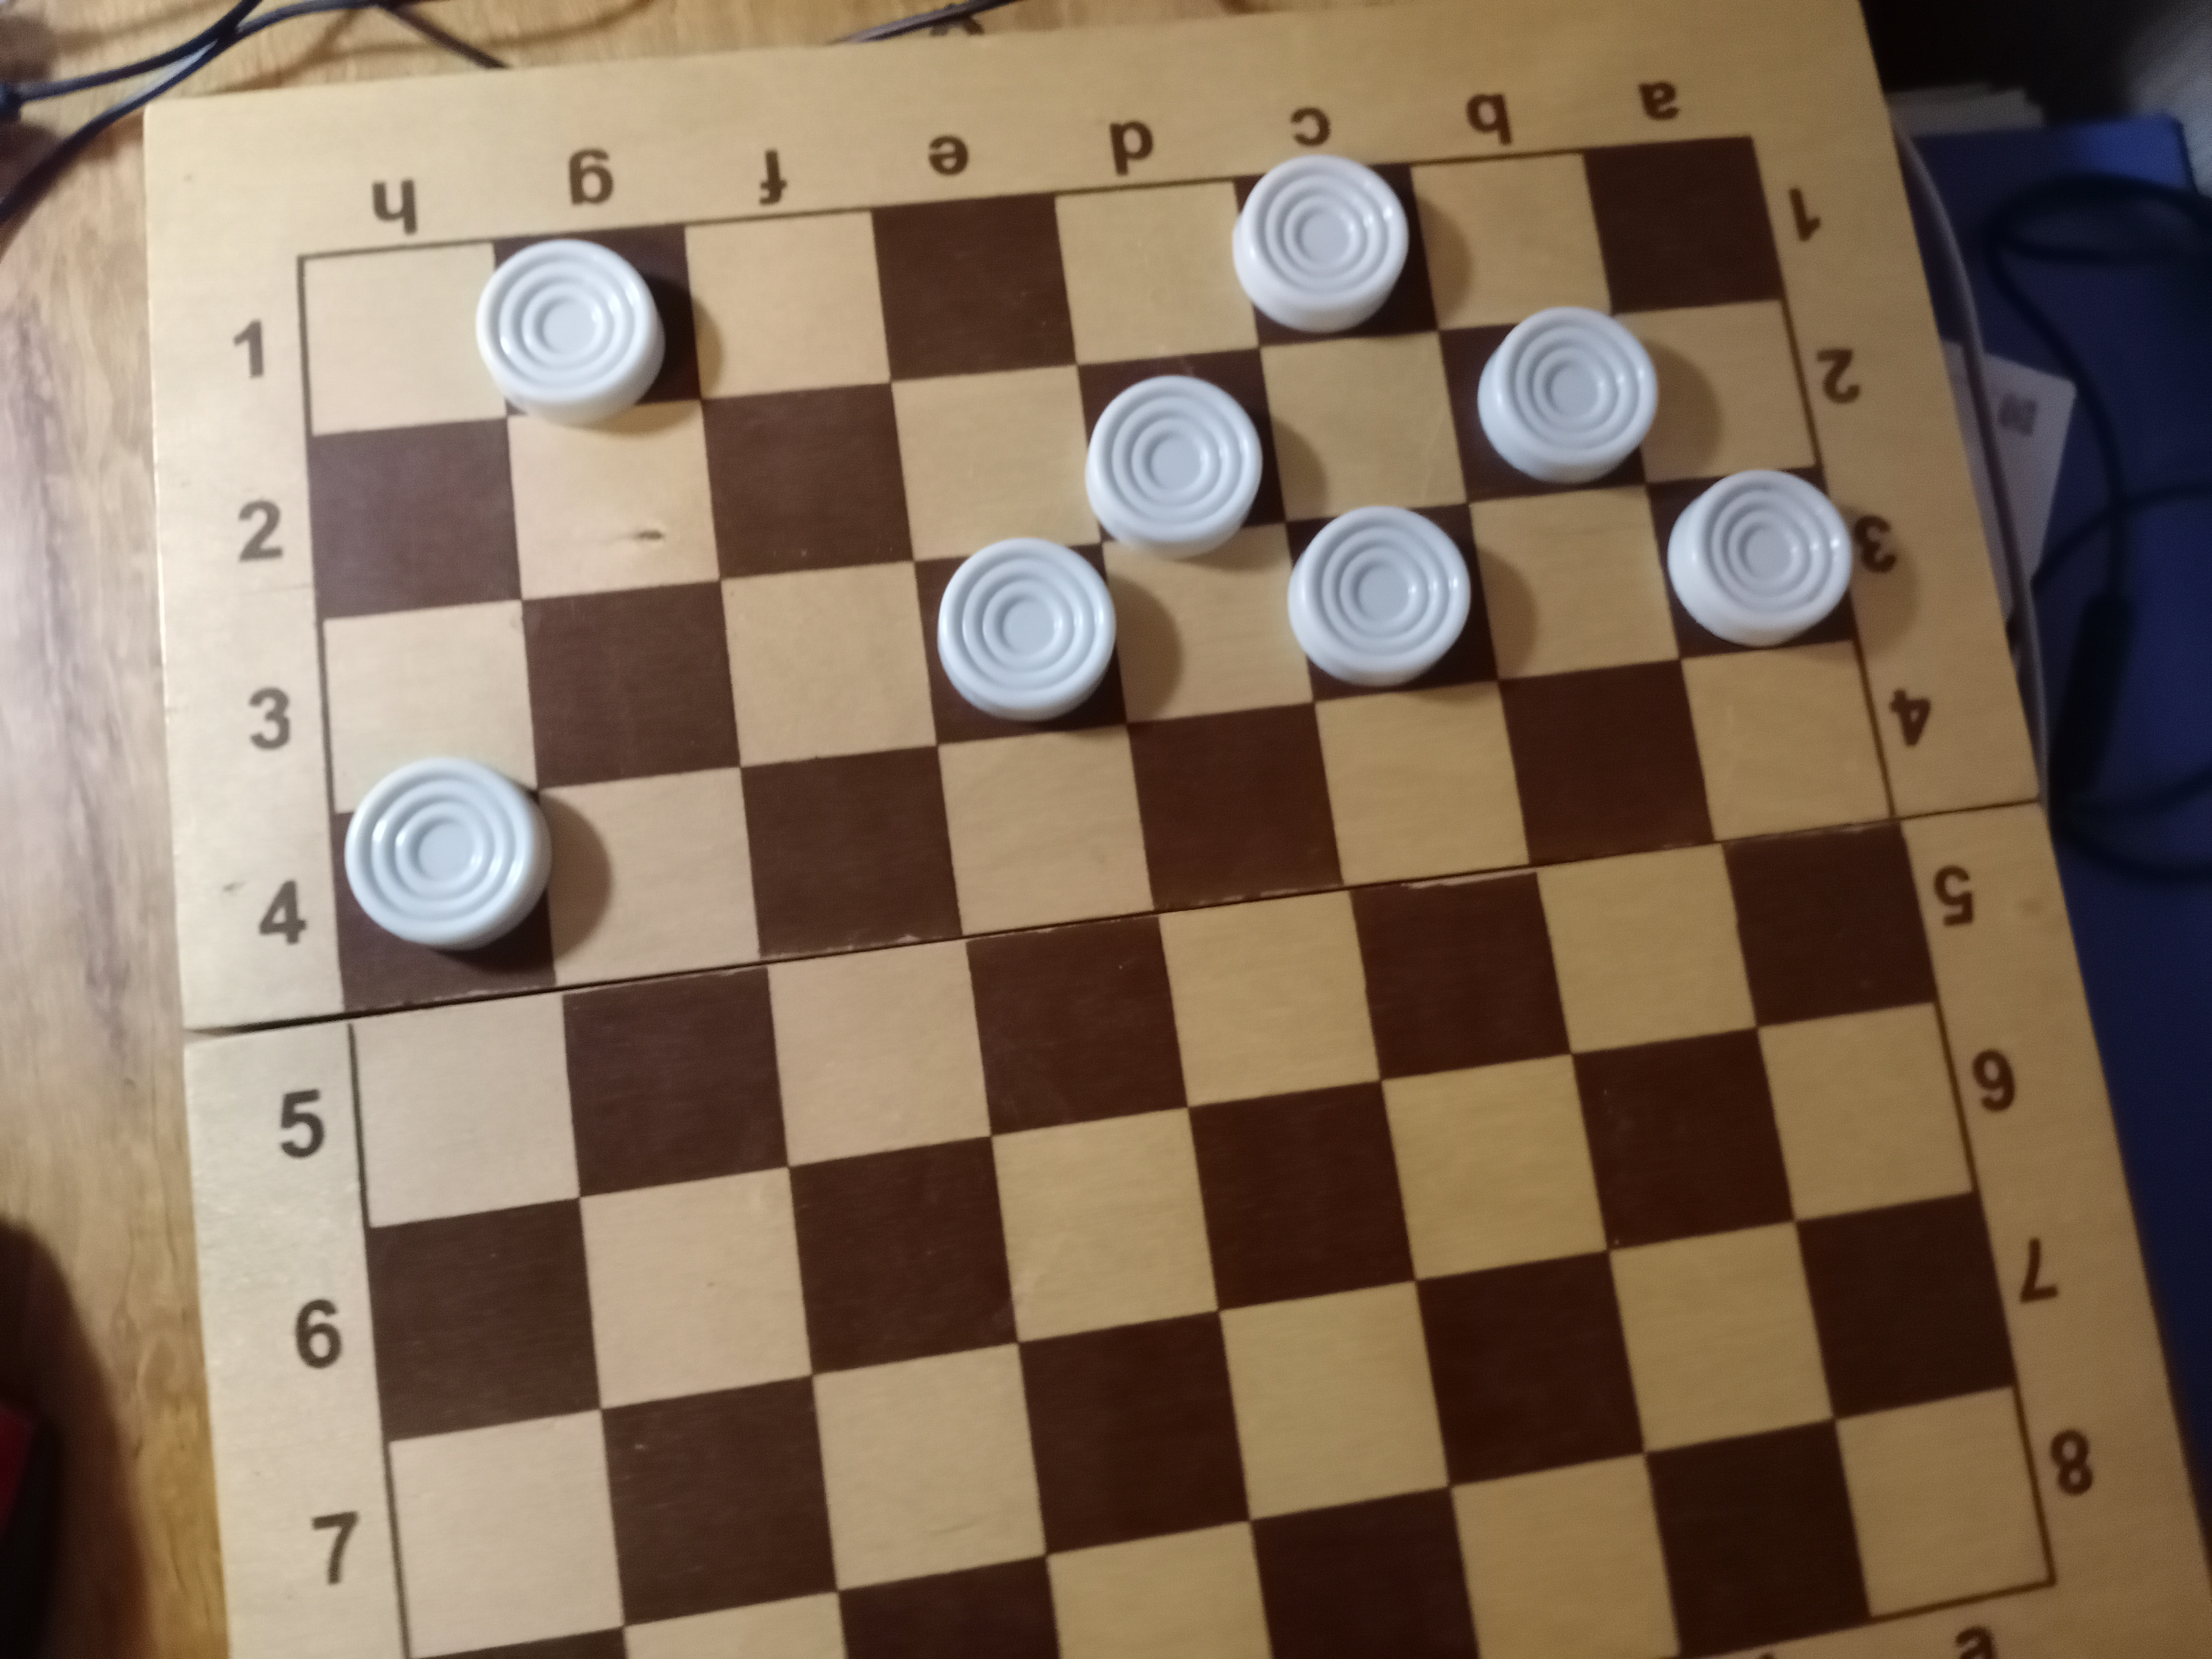White_Draught: (334, 756, 554, 1016), (913, 538, 1129, 746), (474, 227, 702, 422), (1078, 347, 1285, 559), (1437, 308, 1660, 504), (1285, 505, 1496, 702), (1646, 467, 1858, 660), (1231, 153, 1437, 347)
